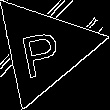P_N: (20, 20, 68, 78)
